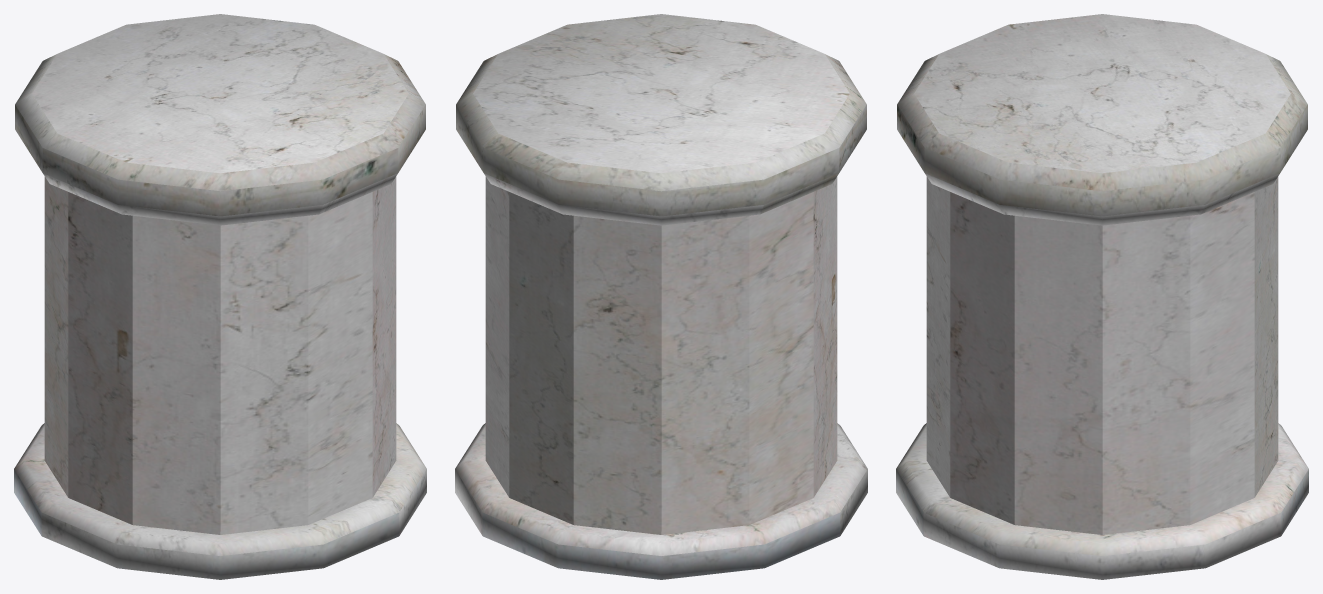
File: Pedastel.fbx
The picture shows the model from 3 angles, left to right: view 1: azimuth 30°, elevation 25°; view 2: azimuth 150°, elevation 25°; view 3: azimuth 270°, elevation 25°; orthographic projection.
Parts seen in each view (by area): view 1: Cylinder; view 2: Cylinder; view 3: Cylinder.
Boxes of the visible parts, x1,y1,x2,y2 form: Cylinder: (14,14,426,579); Cylinder: (455,14,867,579); Cylinder: (896,14,1308,579).
Size of the model in its own units: 2.35 by 2.51 by 2.35.
